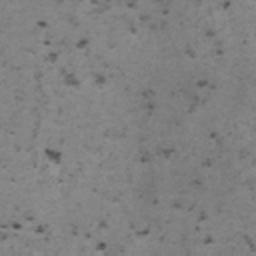Oxide scale of temperature system: (0, 0, 256, 252), (45, 147, 63, 165), (223, 0, 232, 9)
